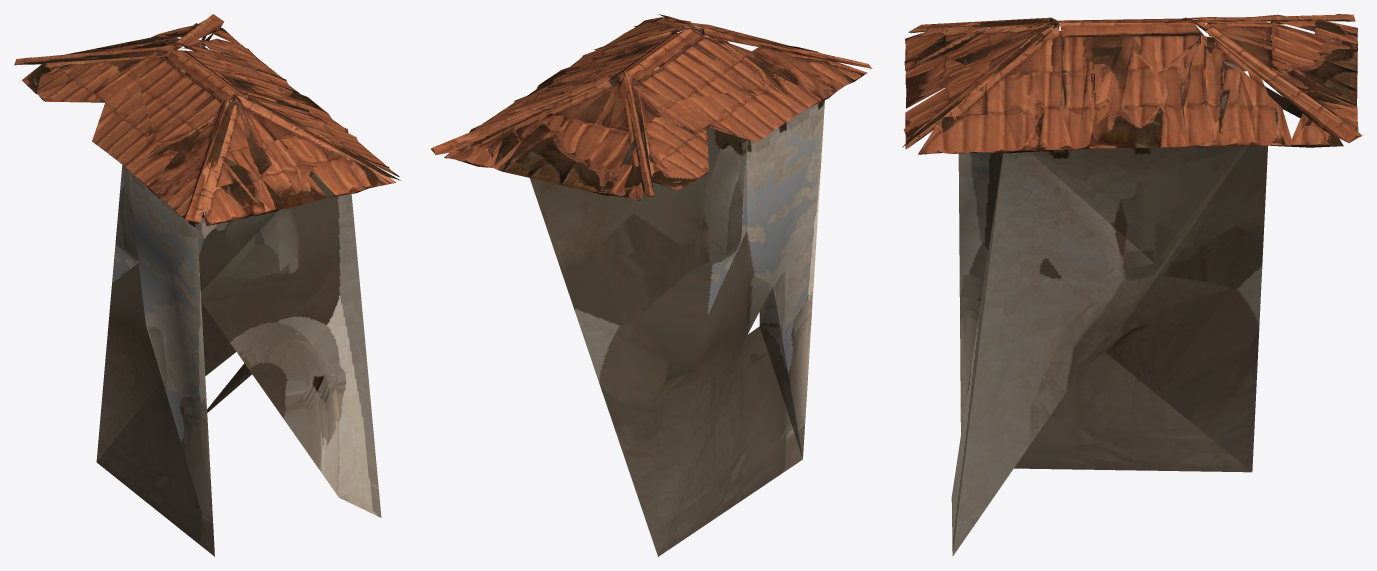
Rendered from act1_kit_v1_gate_tower.glb.
3 views of the same model, side by side, from view 1: azimuth 30°, elevation 25°; view 2: azimuth 150°, elevation 25°; view 3: azimuth 270°, elevation 25° (orthographic). The views are drawn at different scales.
Visible parts, largest first — view 1: A11_4_gate_tower; view 2: A11_4_gate_tower; view 3: A11_4_gate_tower.
Part boxes in pixels (x1,y1,x2,y2): A11_4_gate_tower: [14, 14, 400, 556]; A11_4_gate_tower: [431, 14, 872, 556]; A11_4_gate_tower: [902, 14, 1362, 556].
Size of the model in its own units: 0.5557 by 0.9947 by 0.8569.
Materials: 1 (1 with a texture image).
